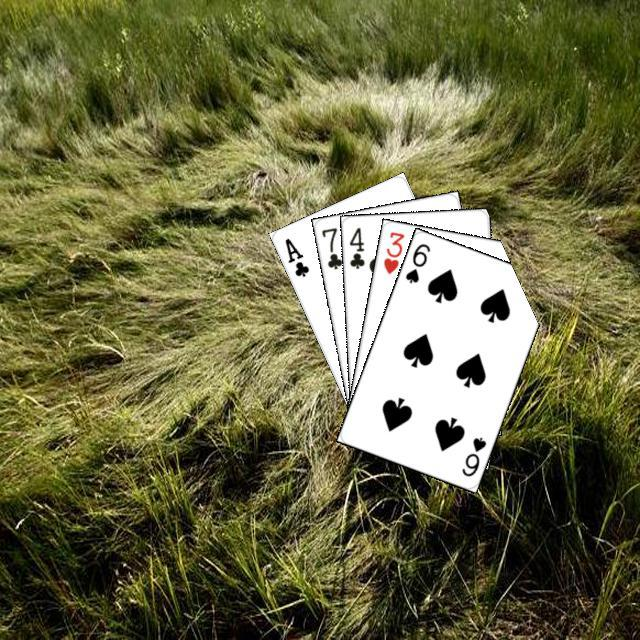3h: (379, 227, 406, 276)
4c: (344, 223, 366, 271)
6s: (400, 238, 432, 285), (457, 432, 488, 478)
7c: (316, 223, 344, 271)
Ac: (280, 233, 311, 279)
